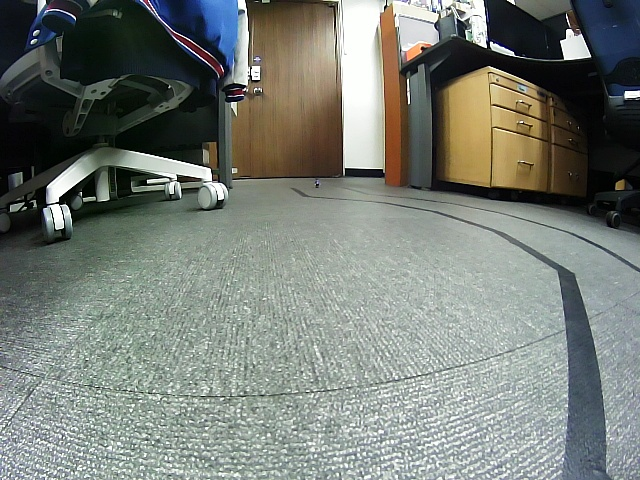person: (314, 178, 320, 188)
